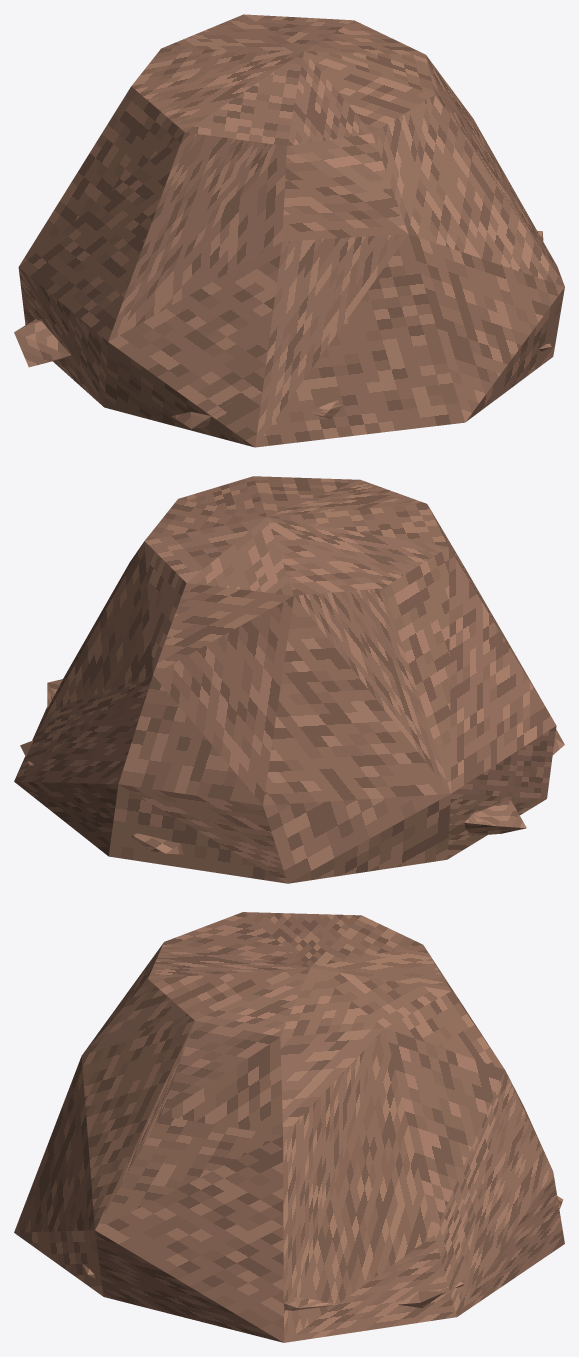
Rendered from f_clay_mound_short.glb.
3 views of the same model, one above another, from view 1: azimuth 30°, elevation 25°; view 2: azimuth 150°, elevation 25°; view 3: azimuth 270°, elevation 25° (orthographic). The views are drawn at different scales.
Parts seen in each view (by area): view 1: block_heaped-clay, block_slumped-edge; view 2: block_heaped-clay, block_slumped-edge (×2); view 3: block_heaped-clay.
Boxes of the visible parts, x1=… form: block_heaped-clay: x1=18, y1=14, x2=564, y2=447; block_slumped-edge: x1=14, y1=319, x2=70, y2=367; block_heaped-clay: x1=14, y1=476, x2=556, y2=883; block_slumped-edge (×2): x1=132, y1=799, x2=526, y2=854; block_heaped-clay: x1=14, y1=912, x2=564, y2=1342.
Bounding box in the file's own units: 0.8725 × 0.43 × 0.8259.
1 material, 1 textured.
